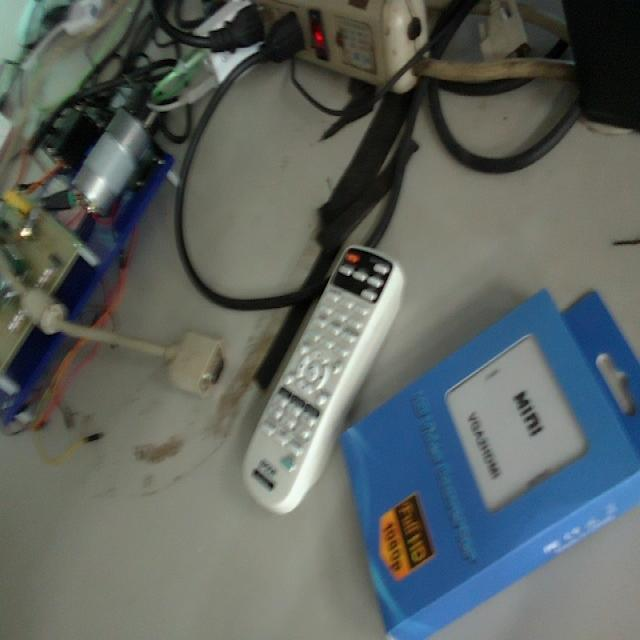remote: (346, 293, 640, 639), (243, 245, 401, 523)
